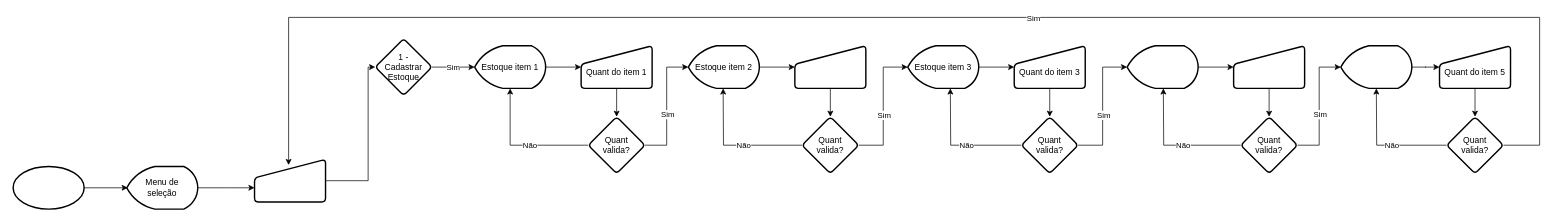
This 1558x222 diagram has some shape labels left out. The centre of each missing label's shape, as x and y in pixels:
"Estoque item 4" goes at (1162,67).
"Estoque item 5" goes at (1376,67).
"Início" goes at (48,187).
"Quant do item 2" goes at (830,67).
"Quant do item 4" goes at (1269,67).
"Selecione uma das opções" goes at (289,180).
